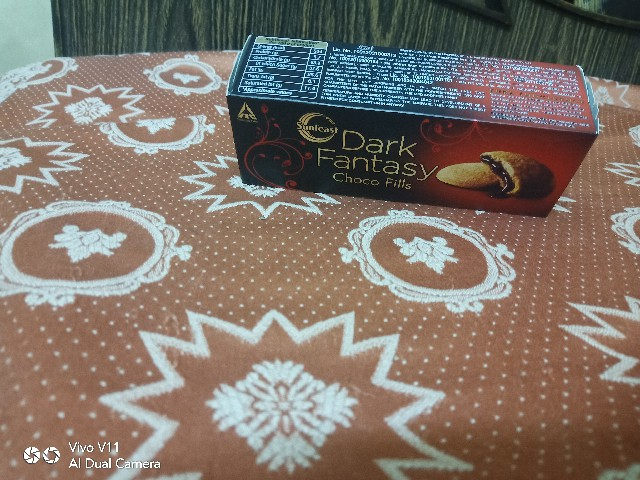darkfantasy big: (214, 21, 615, 221)
